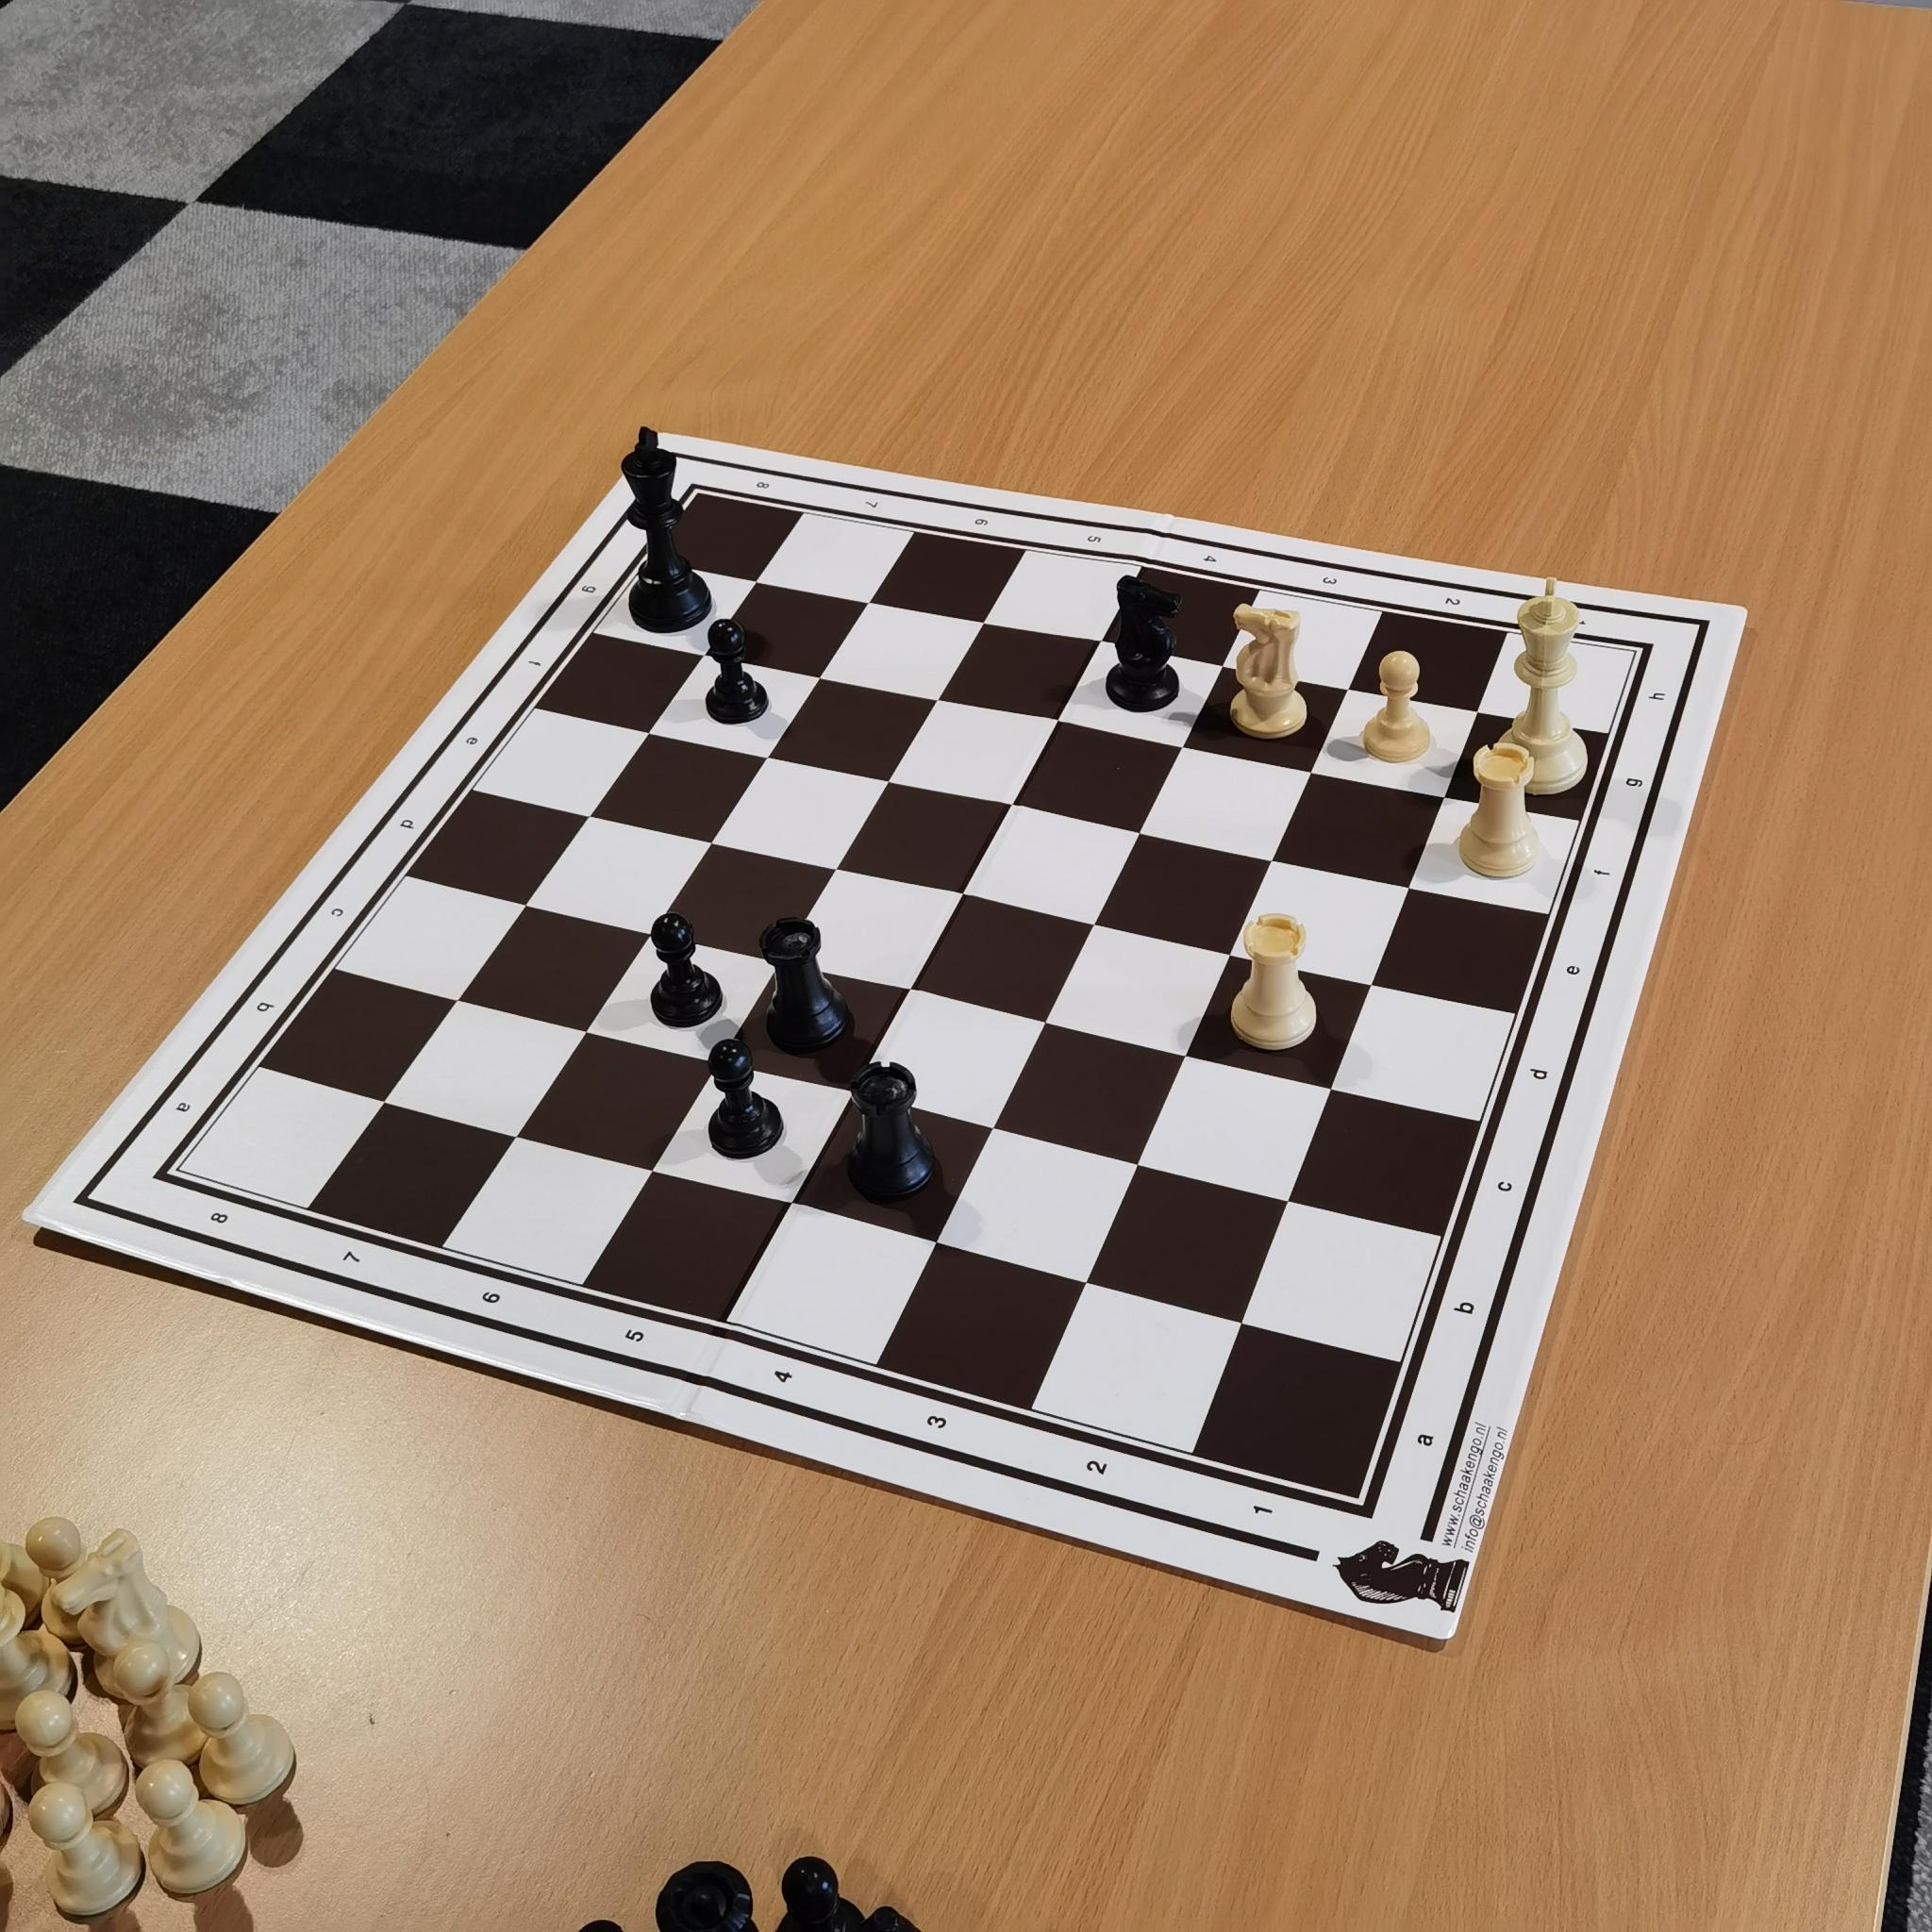corners: (1339, 1481, 1392, 1539), (136, 1155, 198, 1205), (1612, 633, 1665, 674), (672, 471, 715, 508)
eight: (196, 1189, 246, 1240), (748, 464, 778, 504)
one: (1233, 1486, 1290, 1536), (1560, 603, 1598, 640)
